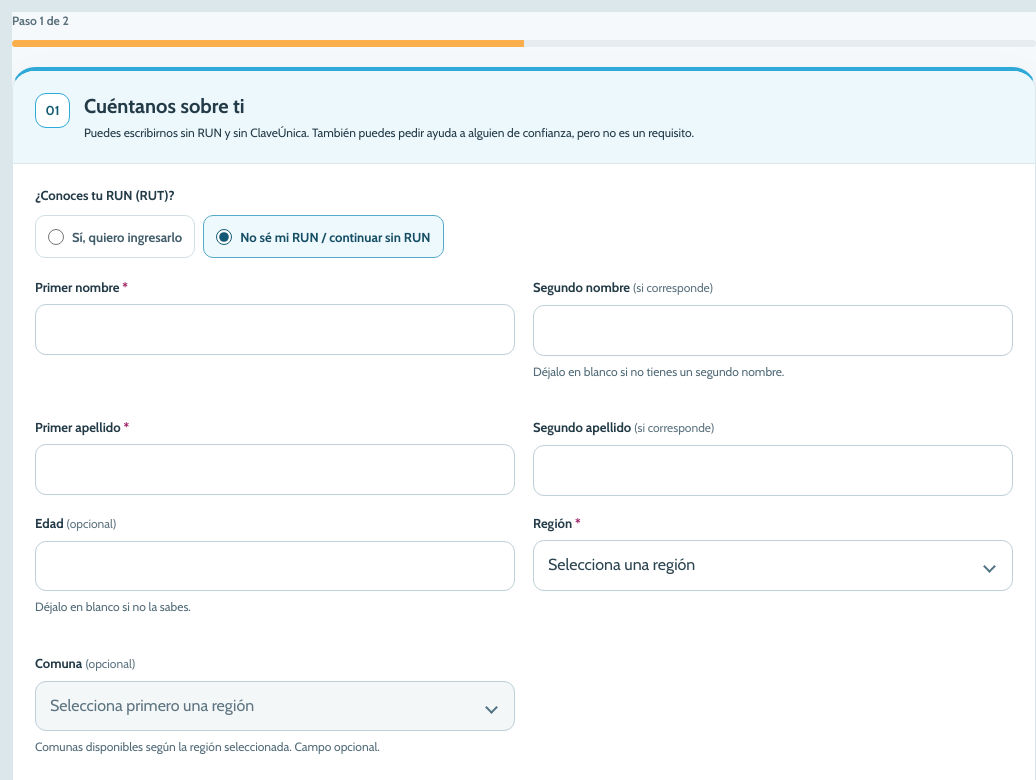
Scenario: Recorrido NNA del mockup › la comuna es opcional, depende de región y se limpia al cambiarla
Type "NOMBRE" into the field labelled "Primer nombre *" at (275, 330), box [35, 304, 515, 355]
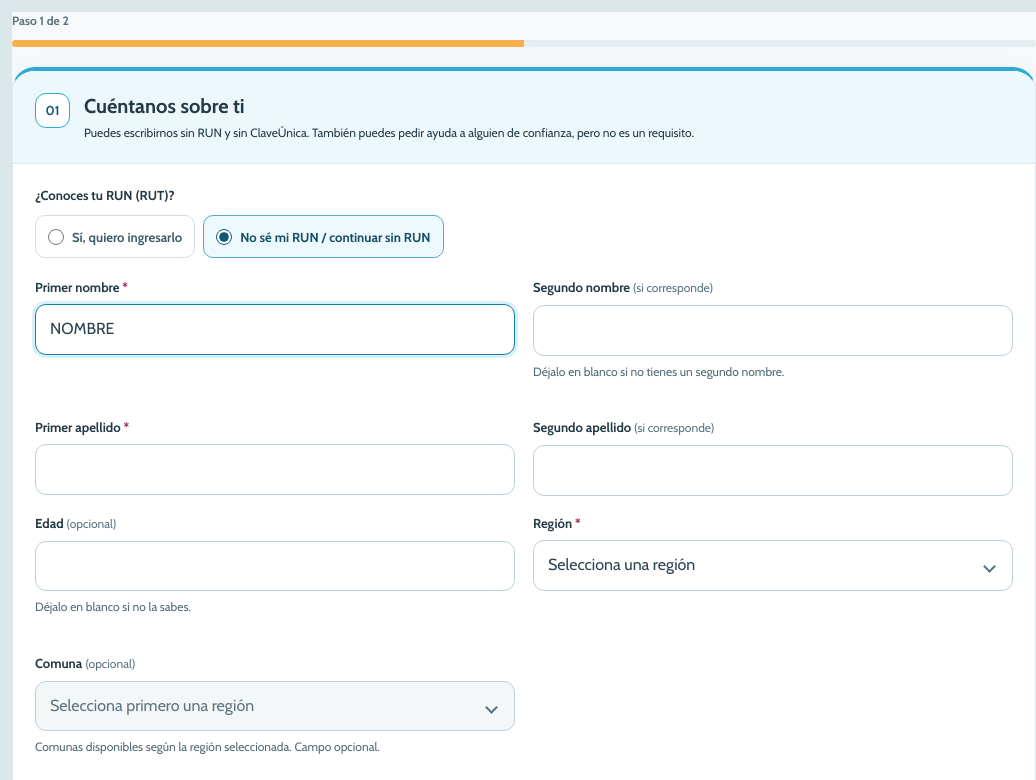
Type "APELLIDO" into the field labelled "Primer apellido *" at (275, 470), box [35, 444, 515, 495]
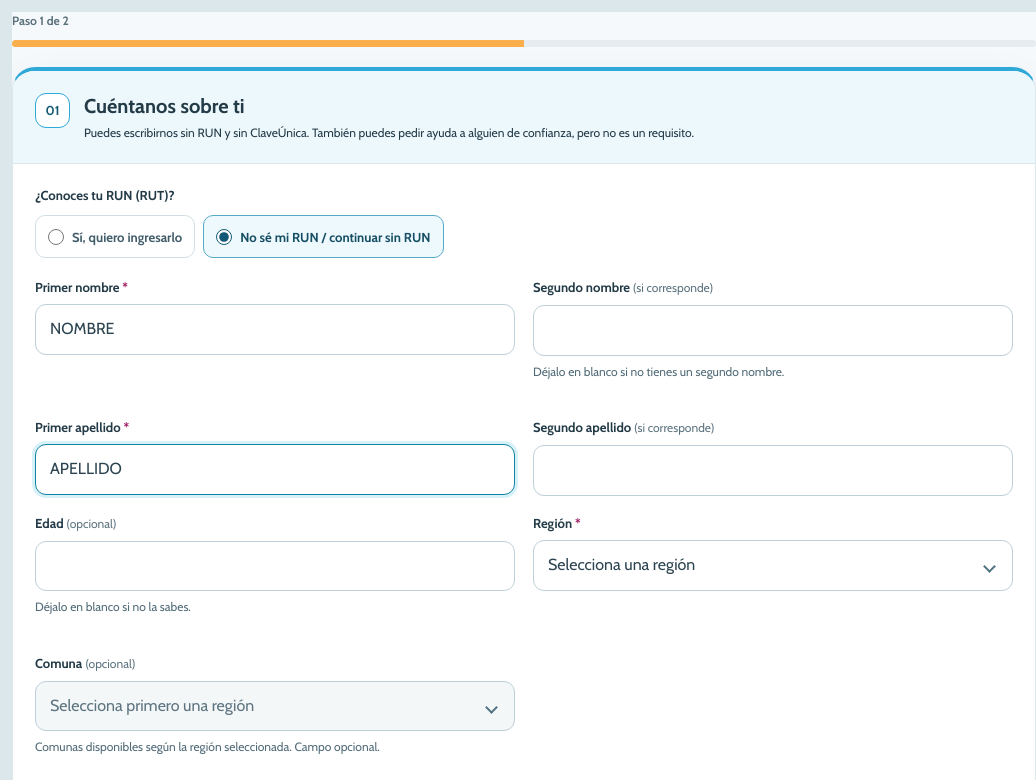
Expected: the dropdown labelled "Comuna (opcional)" is disabled, [35, 680, 515, 731]
Select "Metropolitana de Santiago" in the dropdown labelled "Región *" at (773, 565), box [533, 540, 1013, 591]
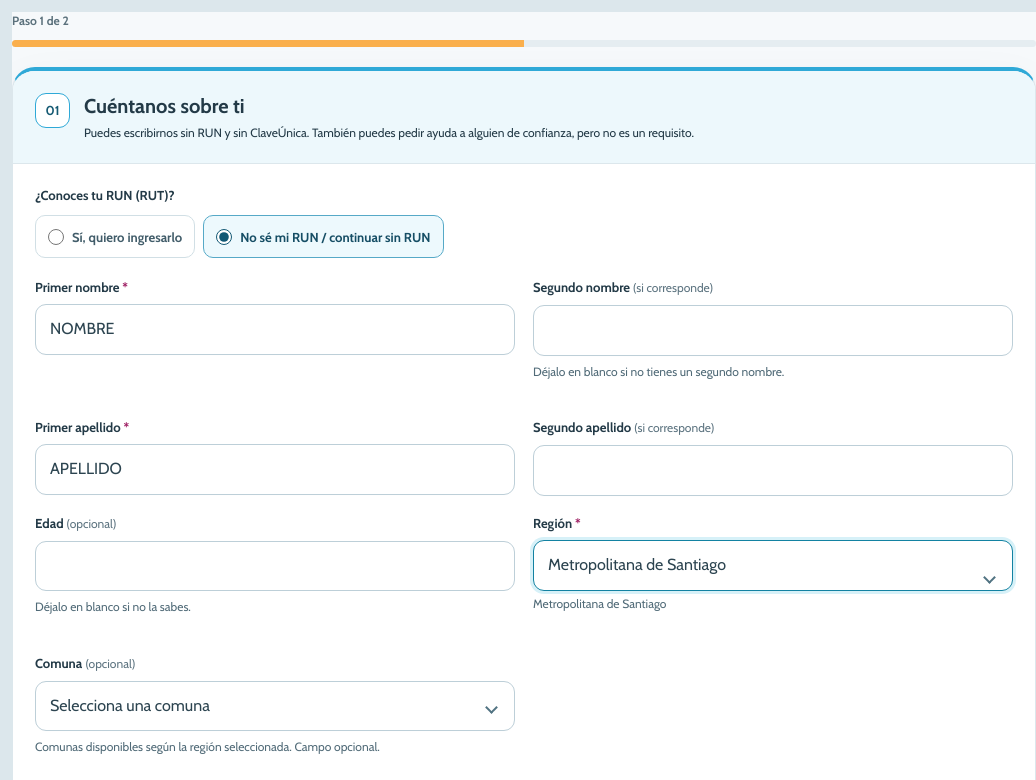
Select "Santiago" in the dropdown labelled "Comuna (opcional)" at (275, 706), box [35, 680, 515, 731]
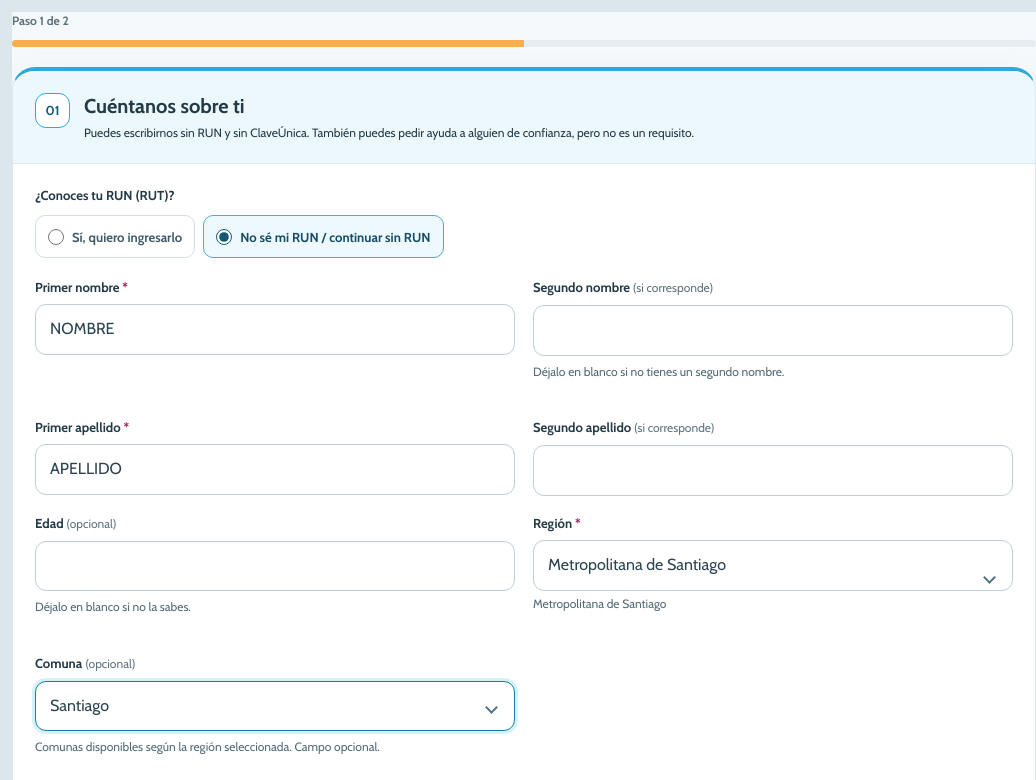
Select "Arica y Parinacota" in the dropdown labelled "Región *" at (773, 565), box [533, 540, 1013, 591]
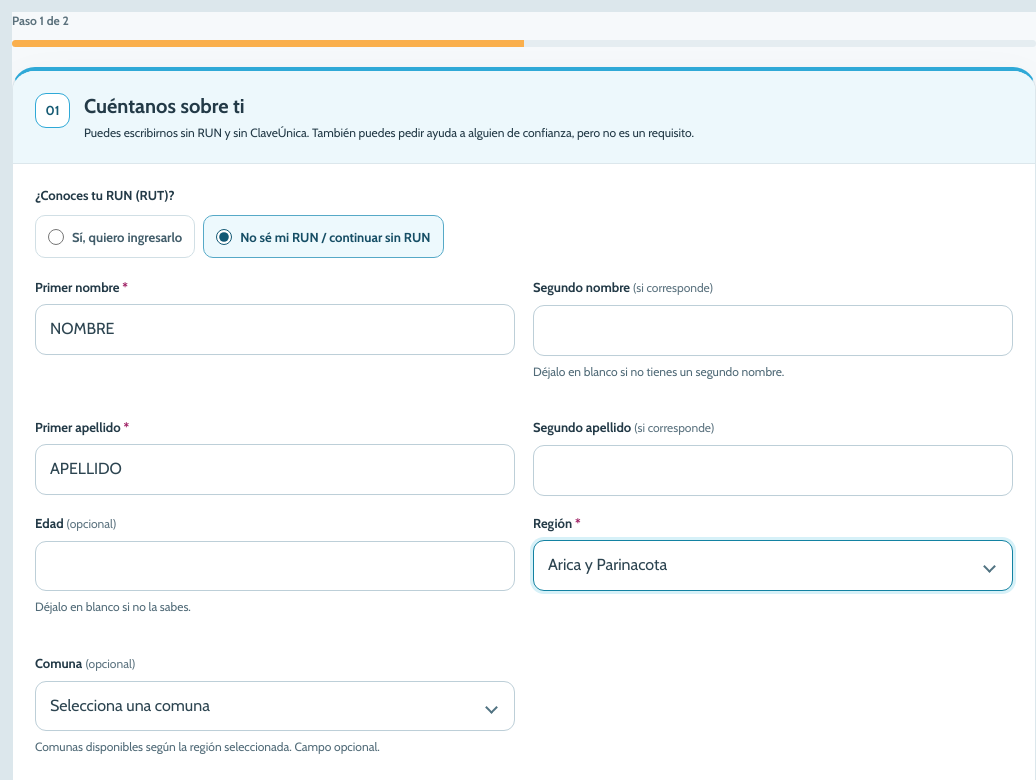
Now the text "Santiago" is gone
